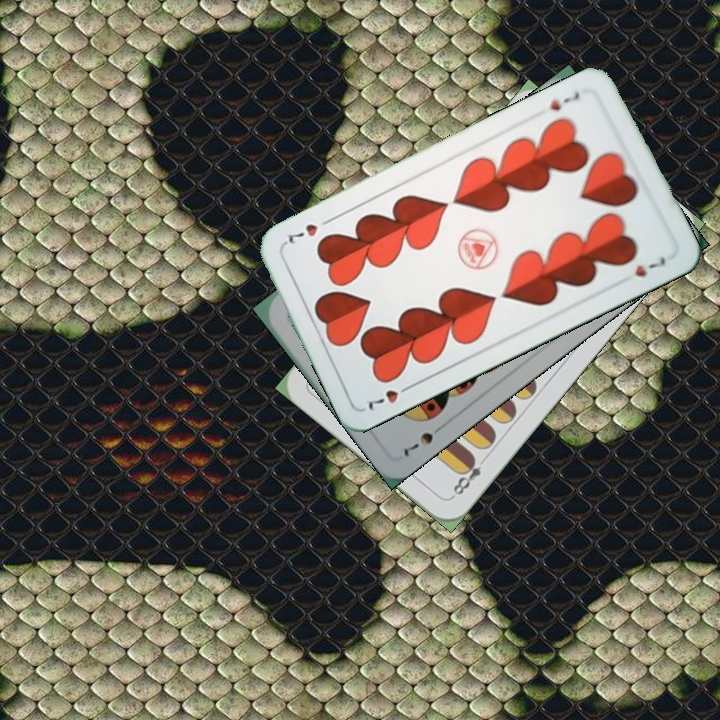E8: (447, 451, 491, 501)
H7: (362, 379, 416, 413), (546, 87, 582, 114)
S7: (399, 419, 448, 459)
